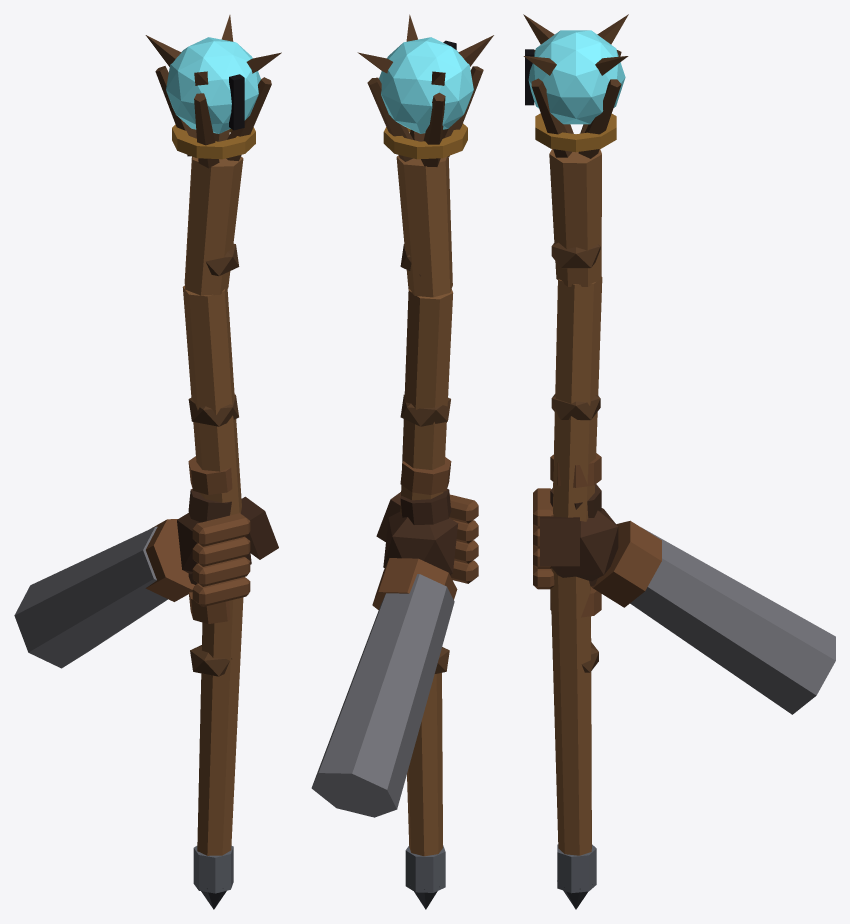
The model's file is staff.fbx.
3 renders of one model, left to right at view 1: azimuth 30°, elevation 25°; view 2: azimuth 150°, elevation 25°; view 3: azimuth 270°, elevation 25°, orthographic.
Parts seen in each view (by area): view 1: Shaft, Hand, Orb_Glow, Iris; view 2: Shaft, Hand, Orb_Glow; view 3: Shaft, Hand, Orb_Glow.
Part boxes in pixels (<box>): Shaft: <box>145,15,281,909</box>; Hand: <box>14,496,278,668</box>; Orb_Glow: <box>166,37,260,133</box>; Iris: <box>229,74,244,130</box>; Shaft: <box>357,14,493,909</box>; Hand: <box>311,492,478,817</box>; Orb_Glow: <box>379,37,473,133</box>; Shaft: <box>523,14,628,909</box>; Hand: <box>533,488,835,714</box>; Orb_Glow: <box>528,30,625,124</box>.
Bounding box in the file's own units: 0.1868 × 1.21 × 0.3917.
Materials: 2 (2 with a texture image).
